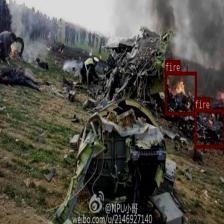fire: (164, 71, 196, 115), (194, 108, 224, 147)
